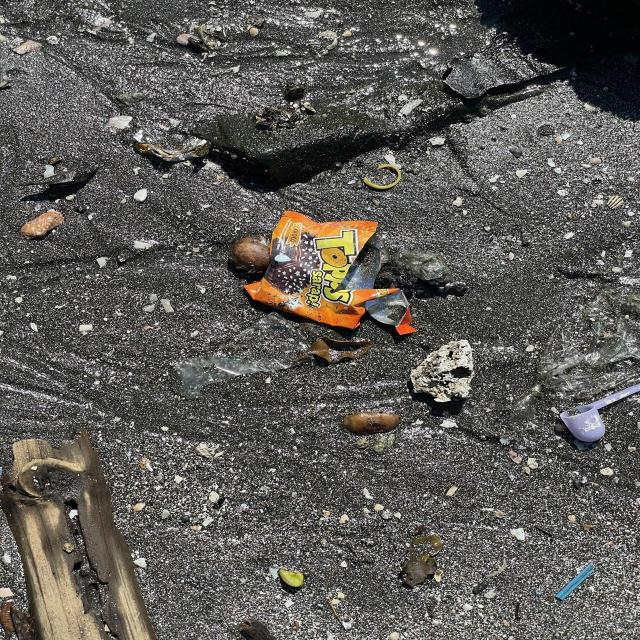plastic_waste: (242, 211, 419, 338)
